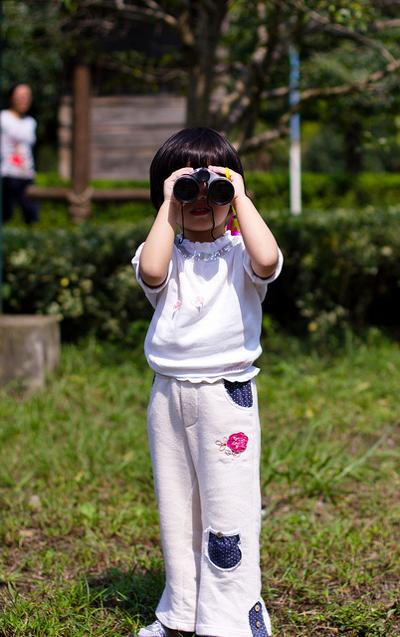person: (132, 126, 286, 637)
